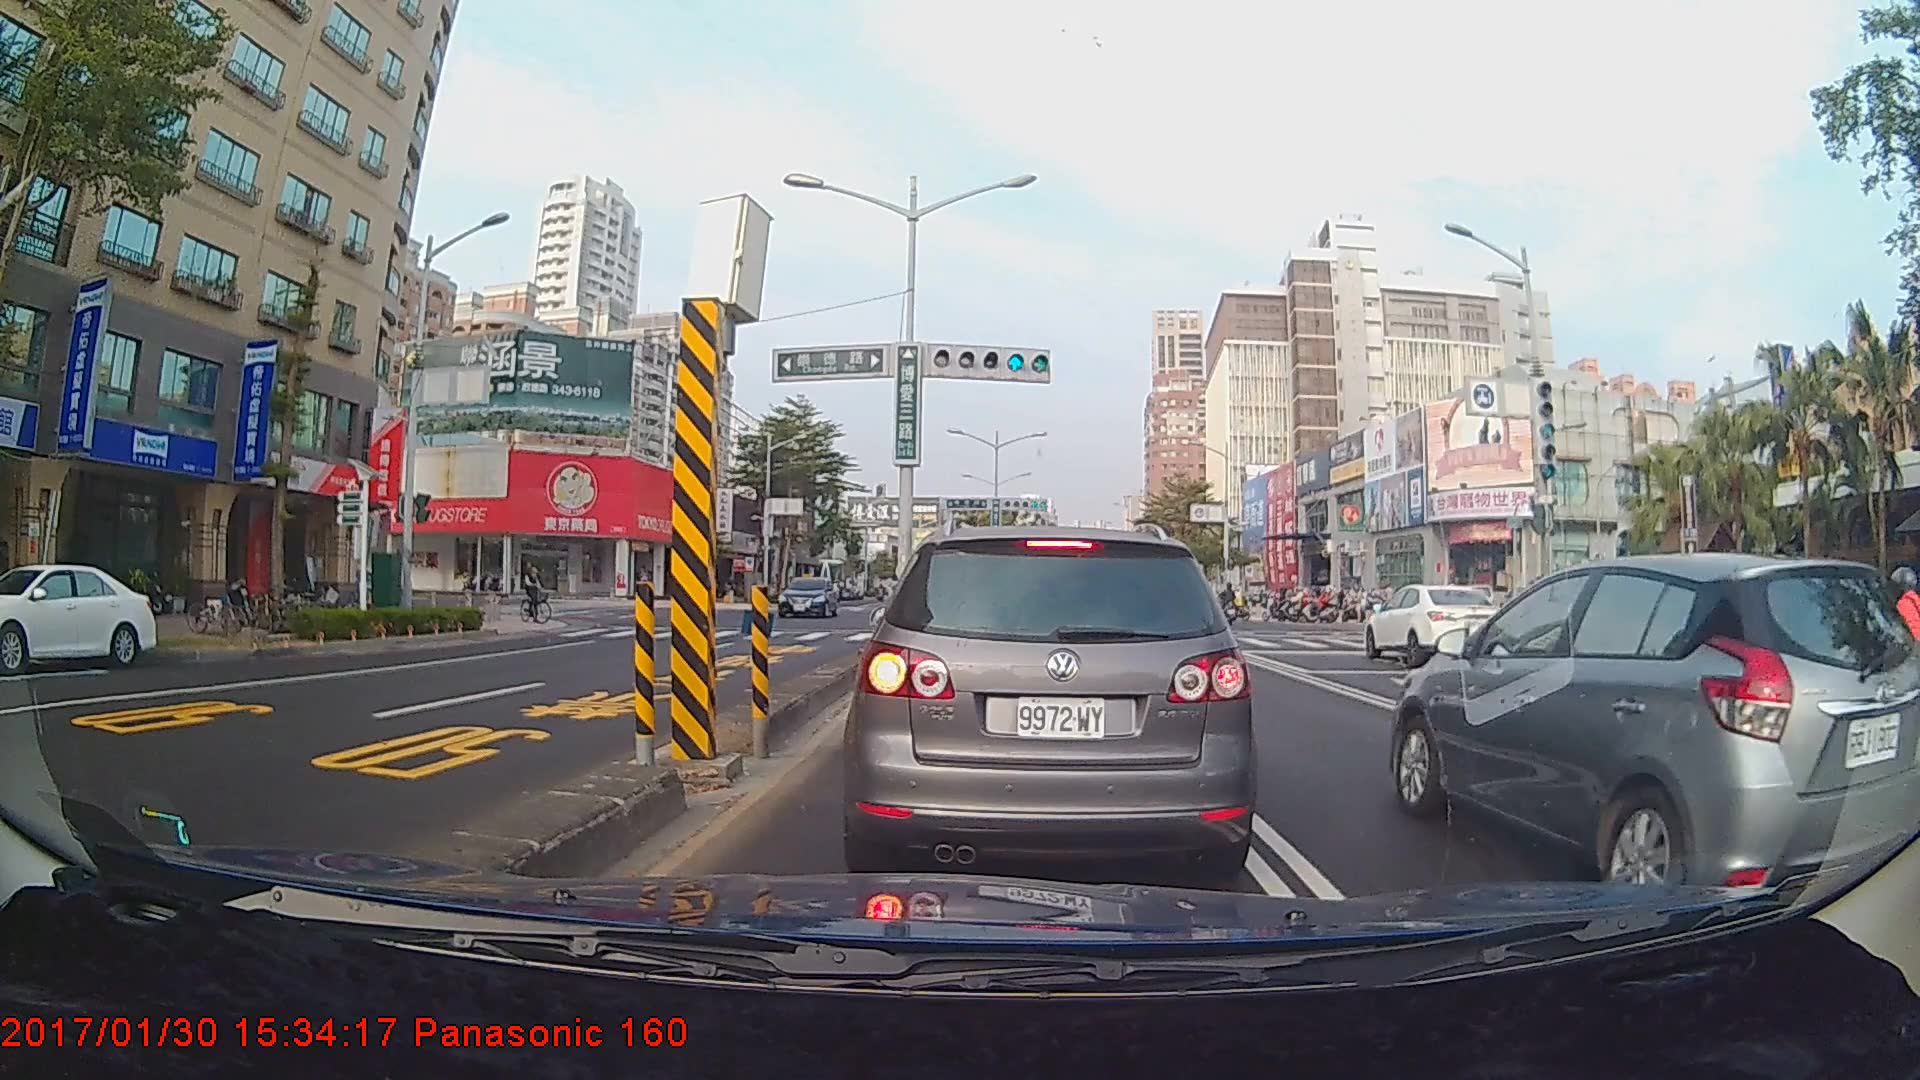rider: (518, 559, 561, 629)
vehicle: (1388, 550, 1920, 888), (854, 521, 1250, 881), (0, 561, 157, 671), (1360, 584, 1503, 670), (774, 574, 839, 617)
